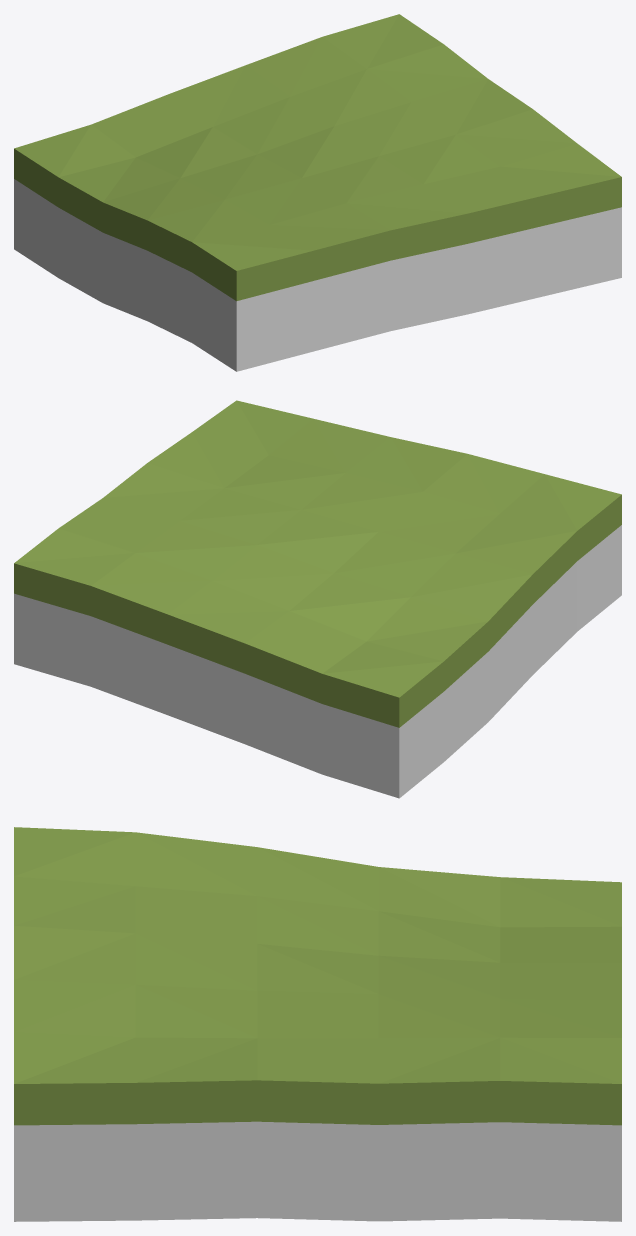
The model's file is terrain-world-valley_01-3.fbx.
3 views of the same model, one above another, from view 1: azimuth 30°, elevation 25°; view 2: azimuth 150°, elevation 25°; view 3: azimuth 270°, elevation 25° (orthographic). The views are drawn at different scales.
Parts seen in each view (by area): view 1: terrain-world-valley_01-3; view 2: terrain-world-valley_01-3; view 3: terrain-world-valley_01-3.
Part boxes in pixels (<box>): terrain-world-valley_01-3: <box>14,14,621,371</box>; terrain-world-valley_01-3: <box>14,400,621,798</box>; terrain-world-valley_01-3: <box>14,827,621,1221</box>.
Bounding box in the file's own units: 20 × 7.15 × 20.
